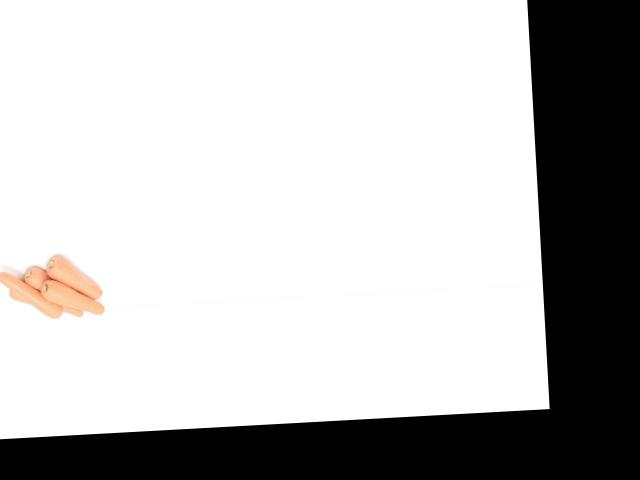carrot: (37, 245, 105, 303)
